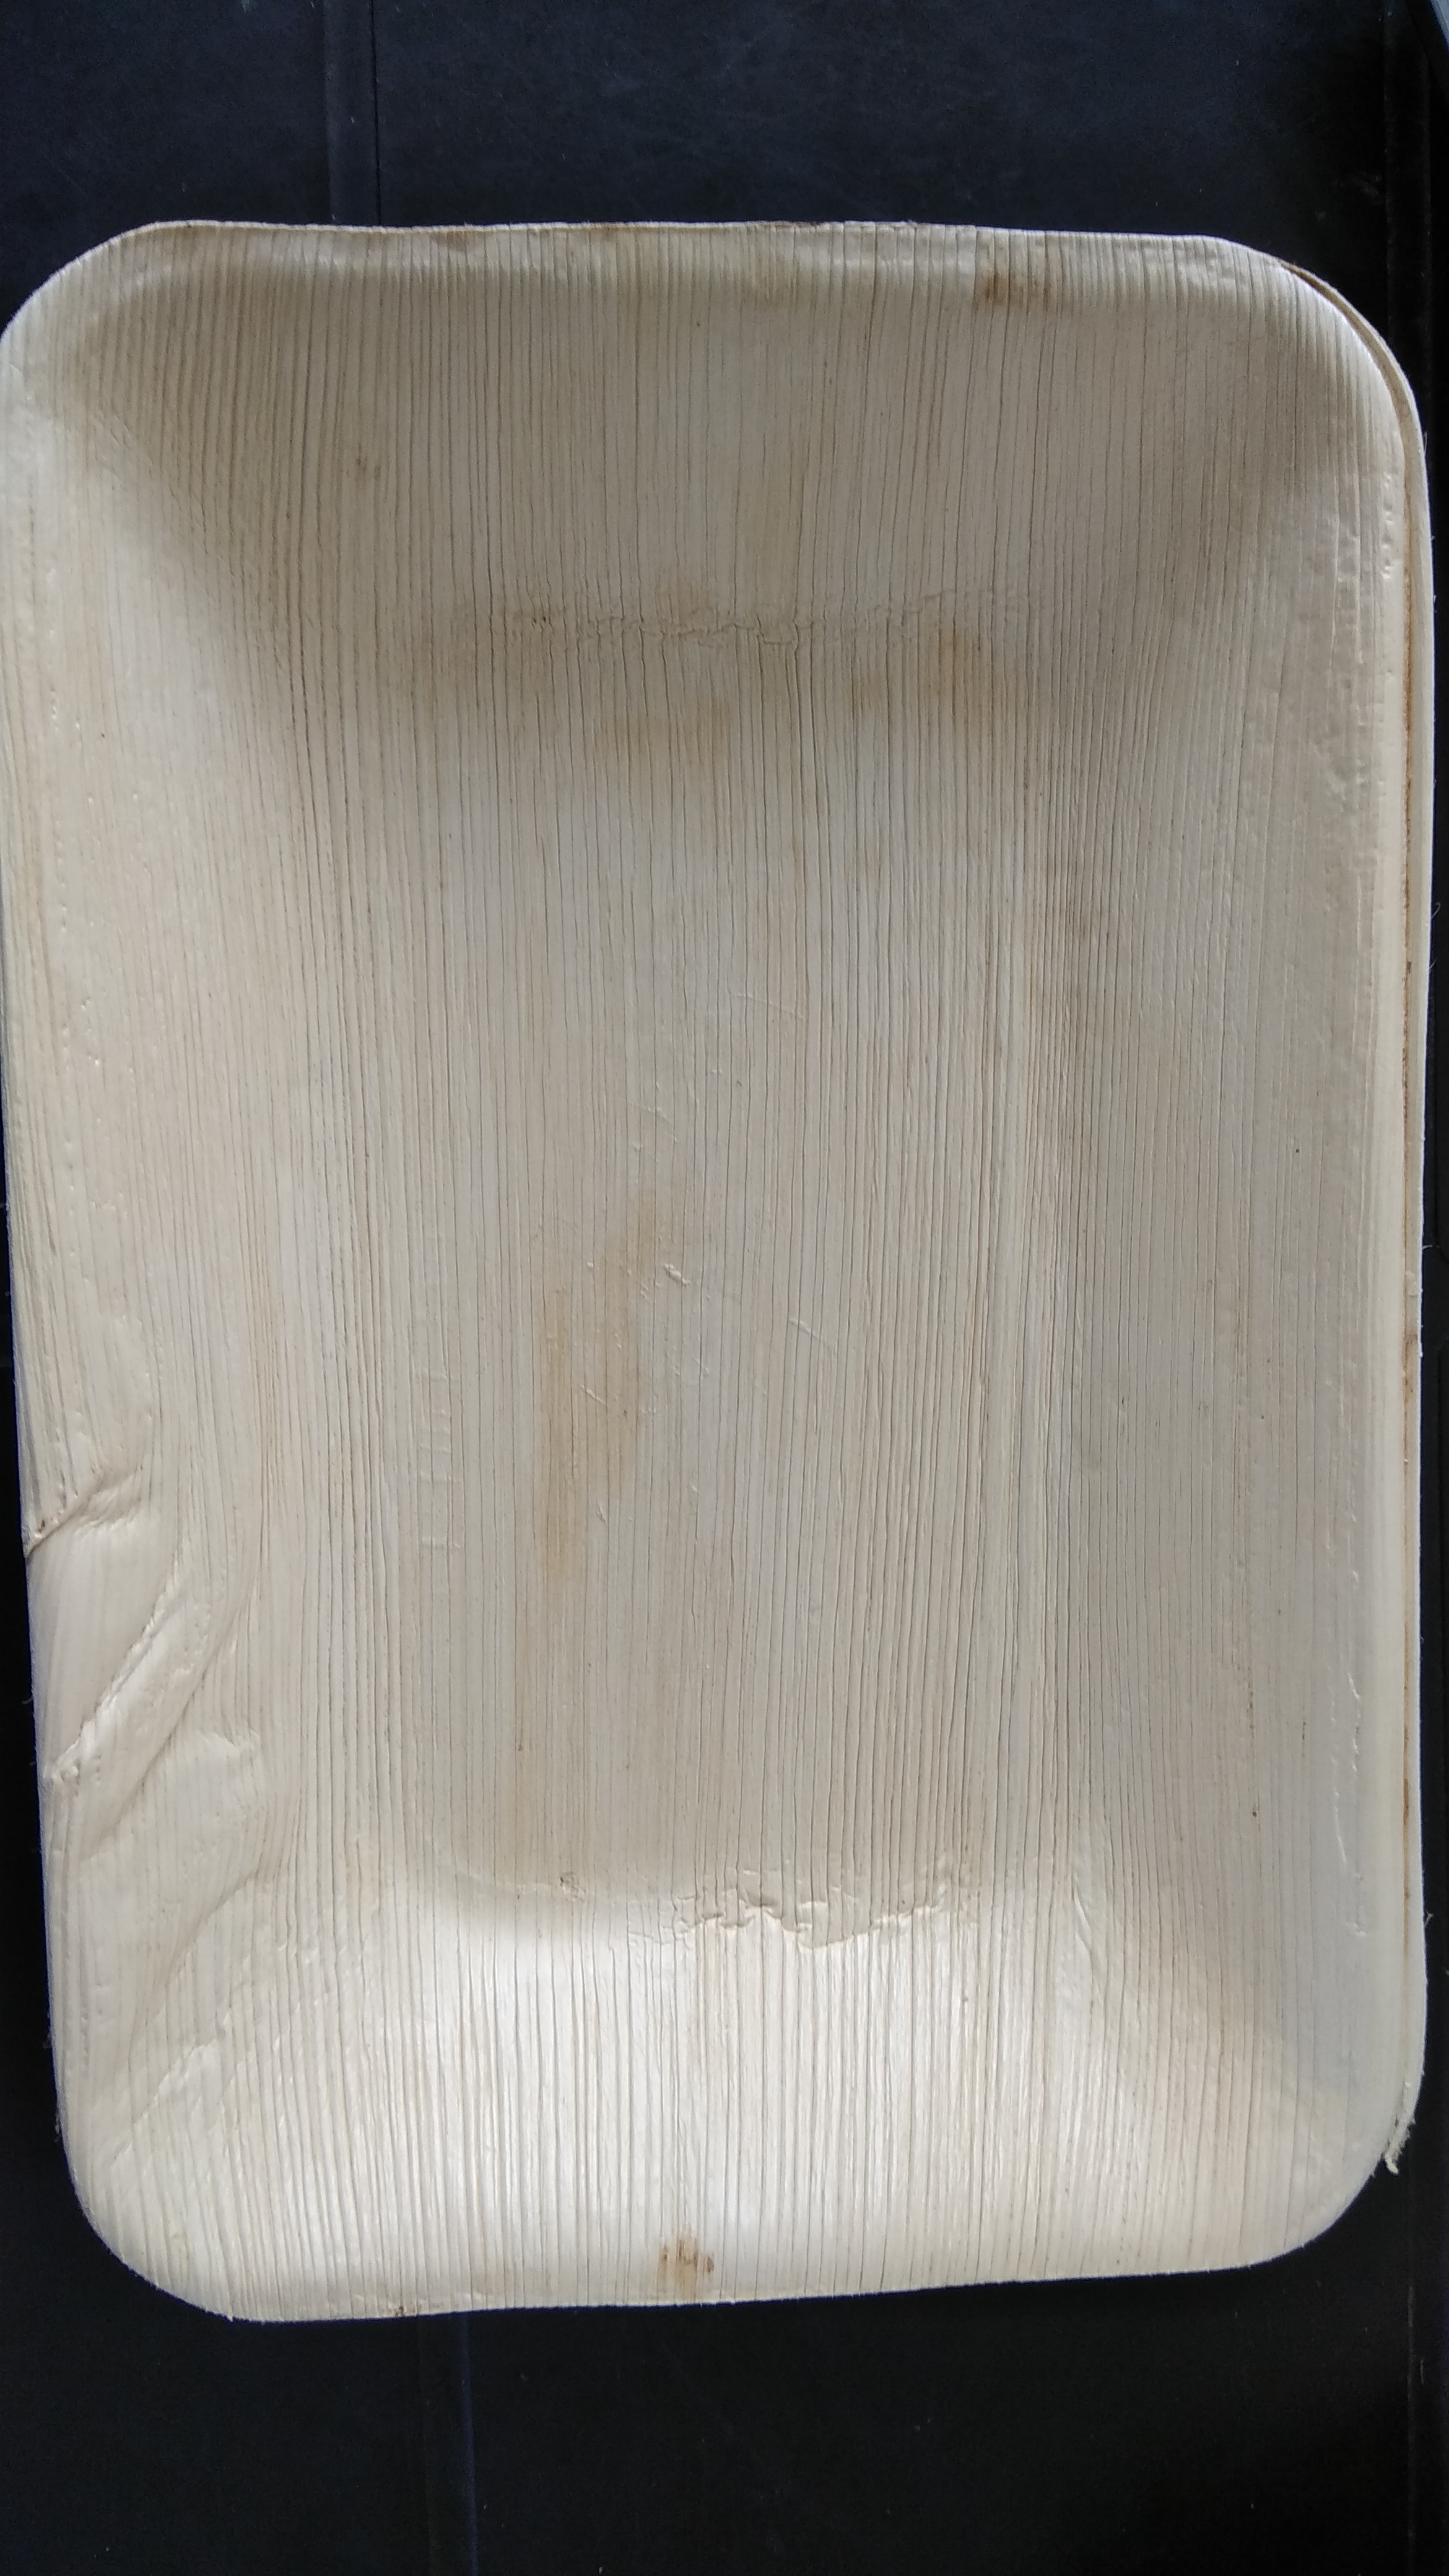areca plate: (21, 186, 1449, 2296)
